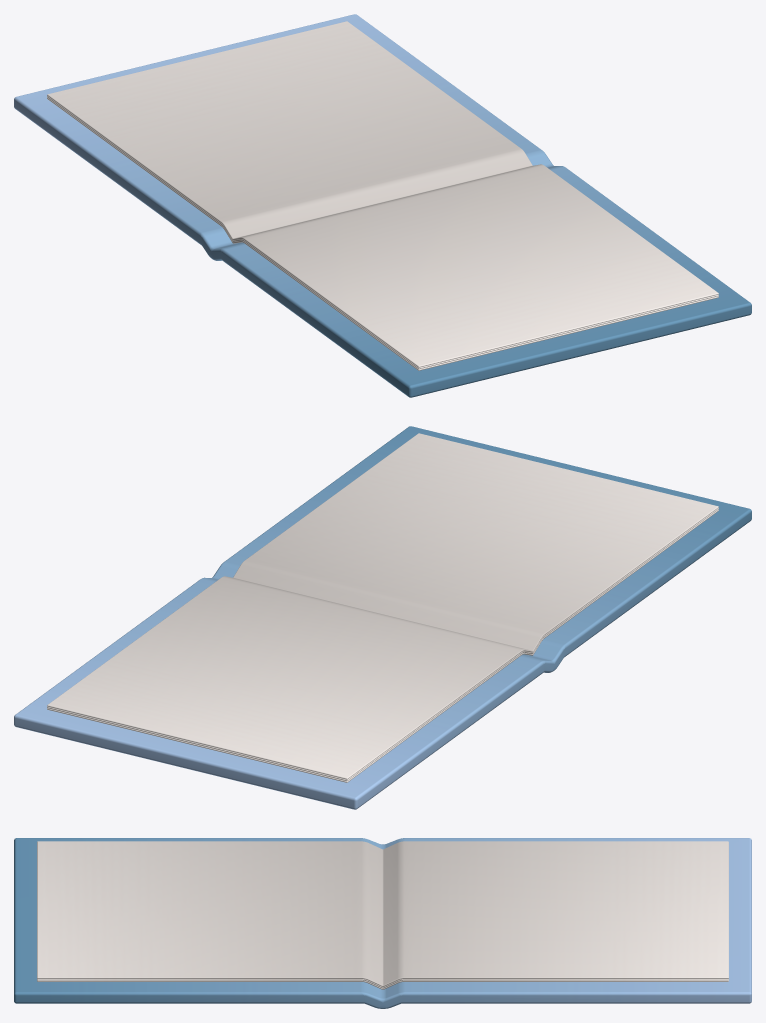
File: HH_OpenBook.fbx
3 renders of one model, top to bottom at view 1: azimuth 30°, elevation 25°; view 2: azimuth 150°, elevation 25°; view 3: azimuth 270°, elevation 25°, orthographic. The views are drawn at different scales.
Parts seen in each view (by area): view 1: Paper.001, Cover.001; view 2: Paper.001, Cover.001; view 3: Paper.001, Cover.001.
Part boxes in pixels (x1=…): Paper.001: x1=47, y1=21, x2=718, y2=370; Cover.001: x1=14, y1=14, x2=751, y2=397; Paper.001: x1=47, y1=433, x2=718, y2=782; Cover.001: x1=14, y1=426, x2=751, y2=809; Paper.001: x1=37, y1=841, x2=728, y2=989; Cover.001: x1=14, y1=838, x2=751, y2=1008.
Size of the model in its own units: 40 by 2.69 by 80.
1 material, 1 textured.
